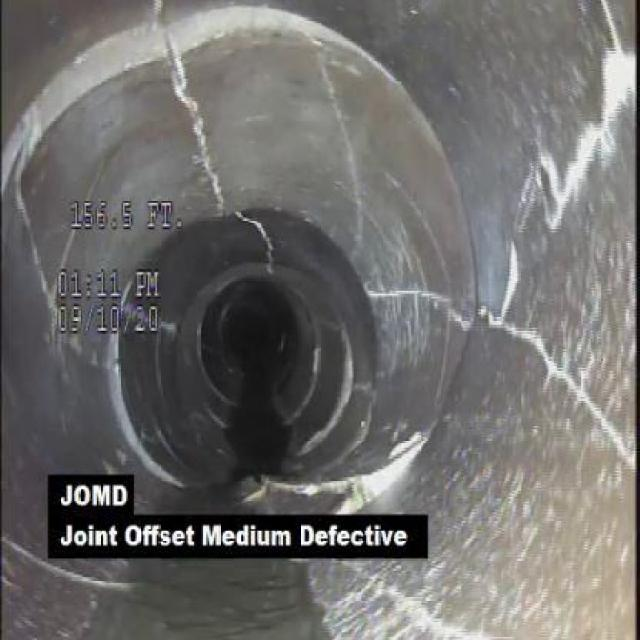Buckling: (228, 429, 434, 511)
Crack: (491, 308, 638, 510), (530, 37, 638, 241), (12, 120, 56, 311), (157, 66, 223, 186), (498, 234, 528, 309)
Joint offset: (24, 20, 158, 115), (177, 1, 380, 54)
